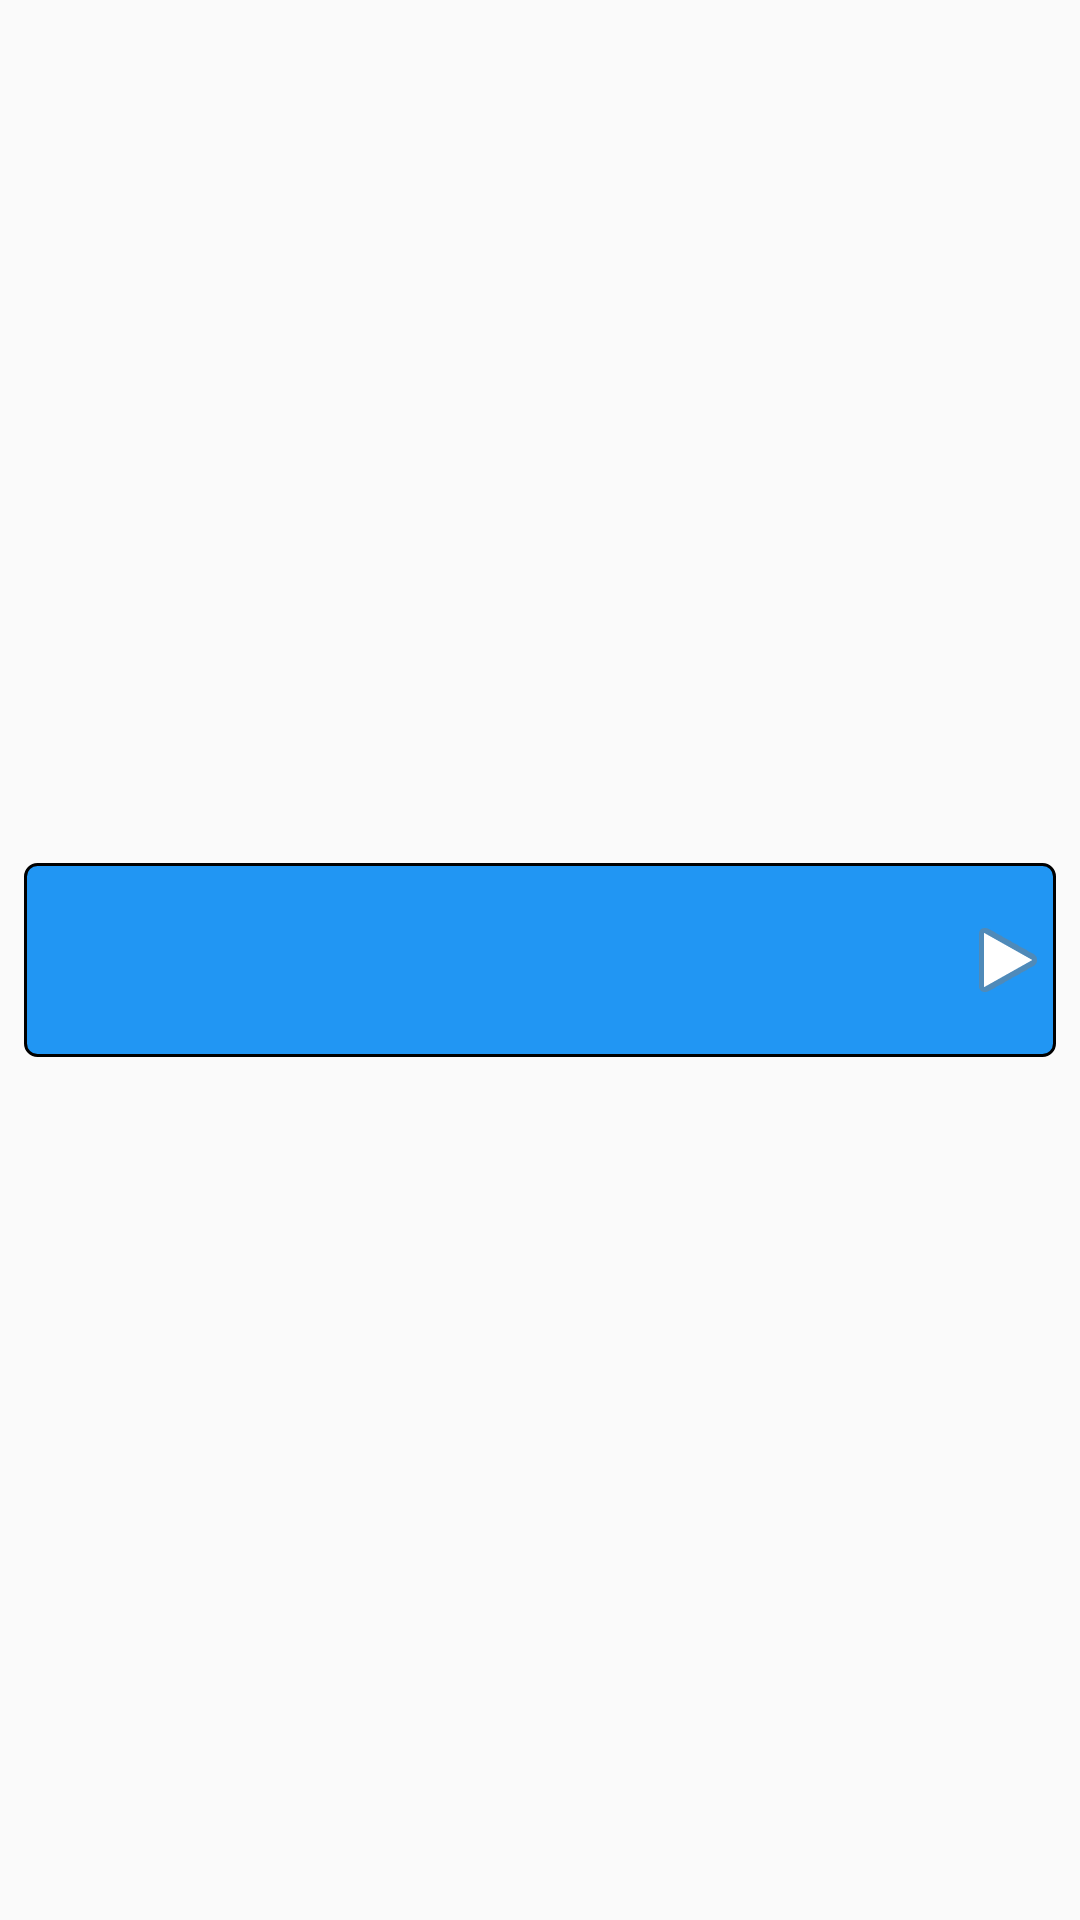

Where icons sit on this 1080 x 1920 app screen, as region(x1, y1, x2, y2):
Next Page: region(979, 928, 1037, 992)
